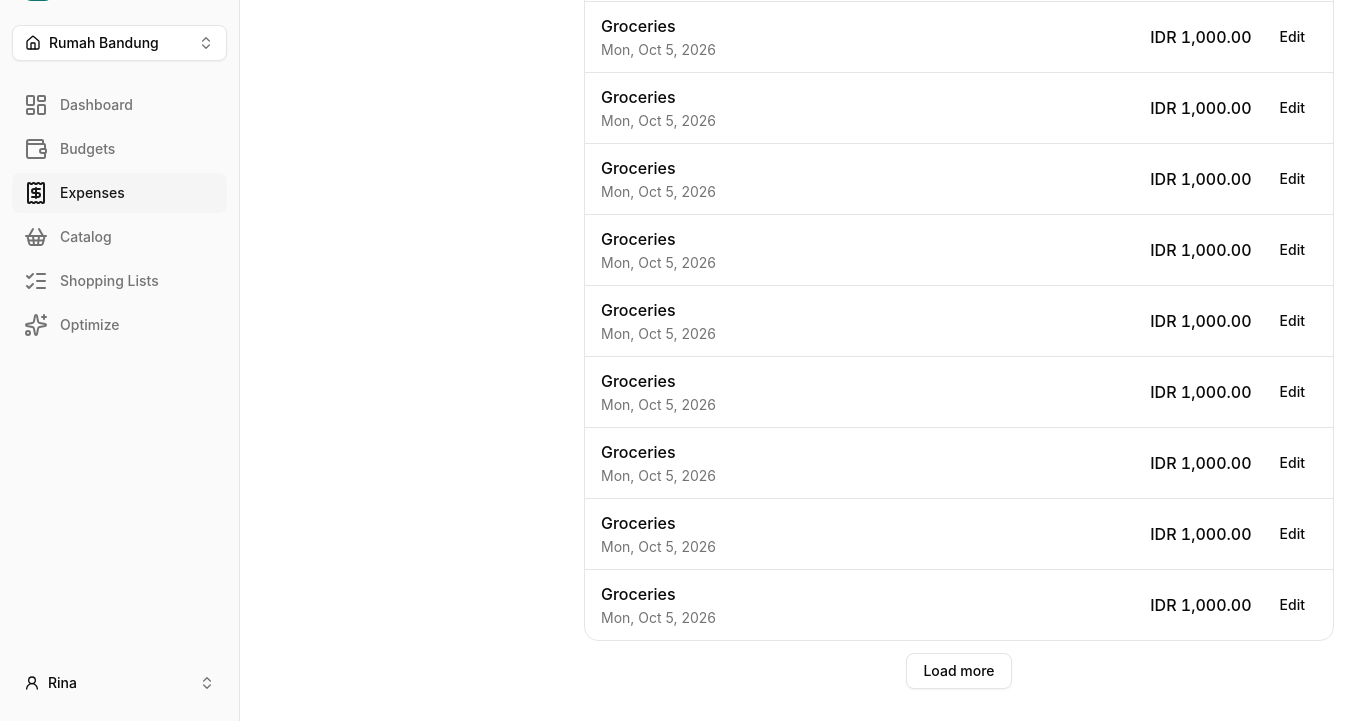
the list › more expenses than one page are loaded on request
(page scrolled)
Click the button "Load more".
click(959, 671)  # box [906,653,1012,689]
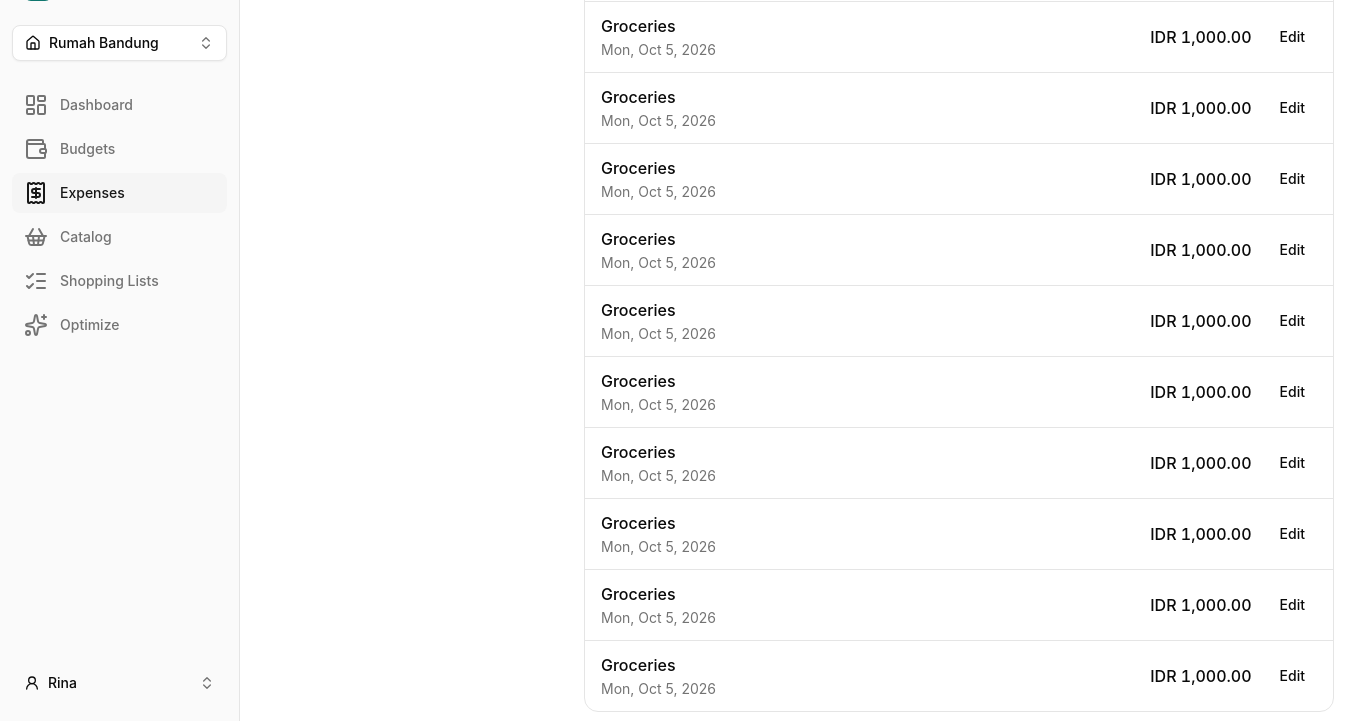
Check: the button "Load more" is gone
